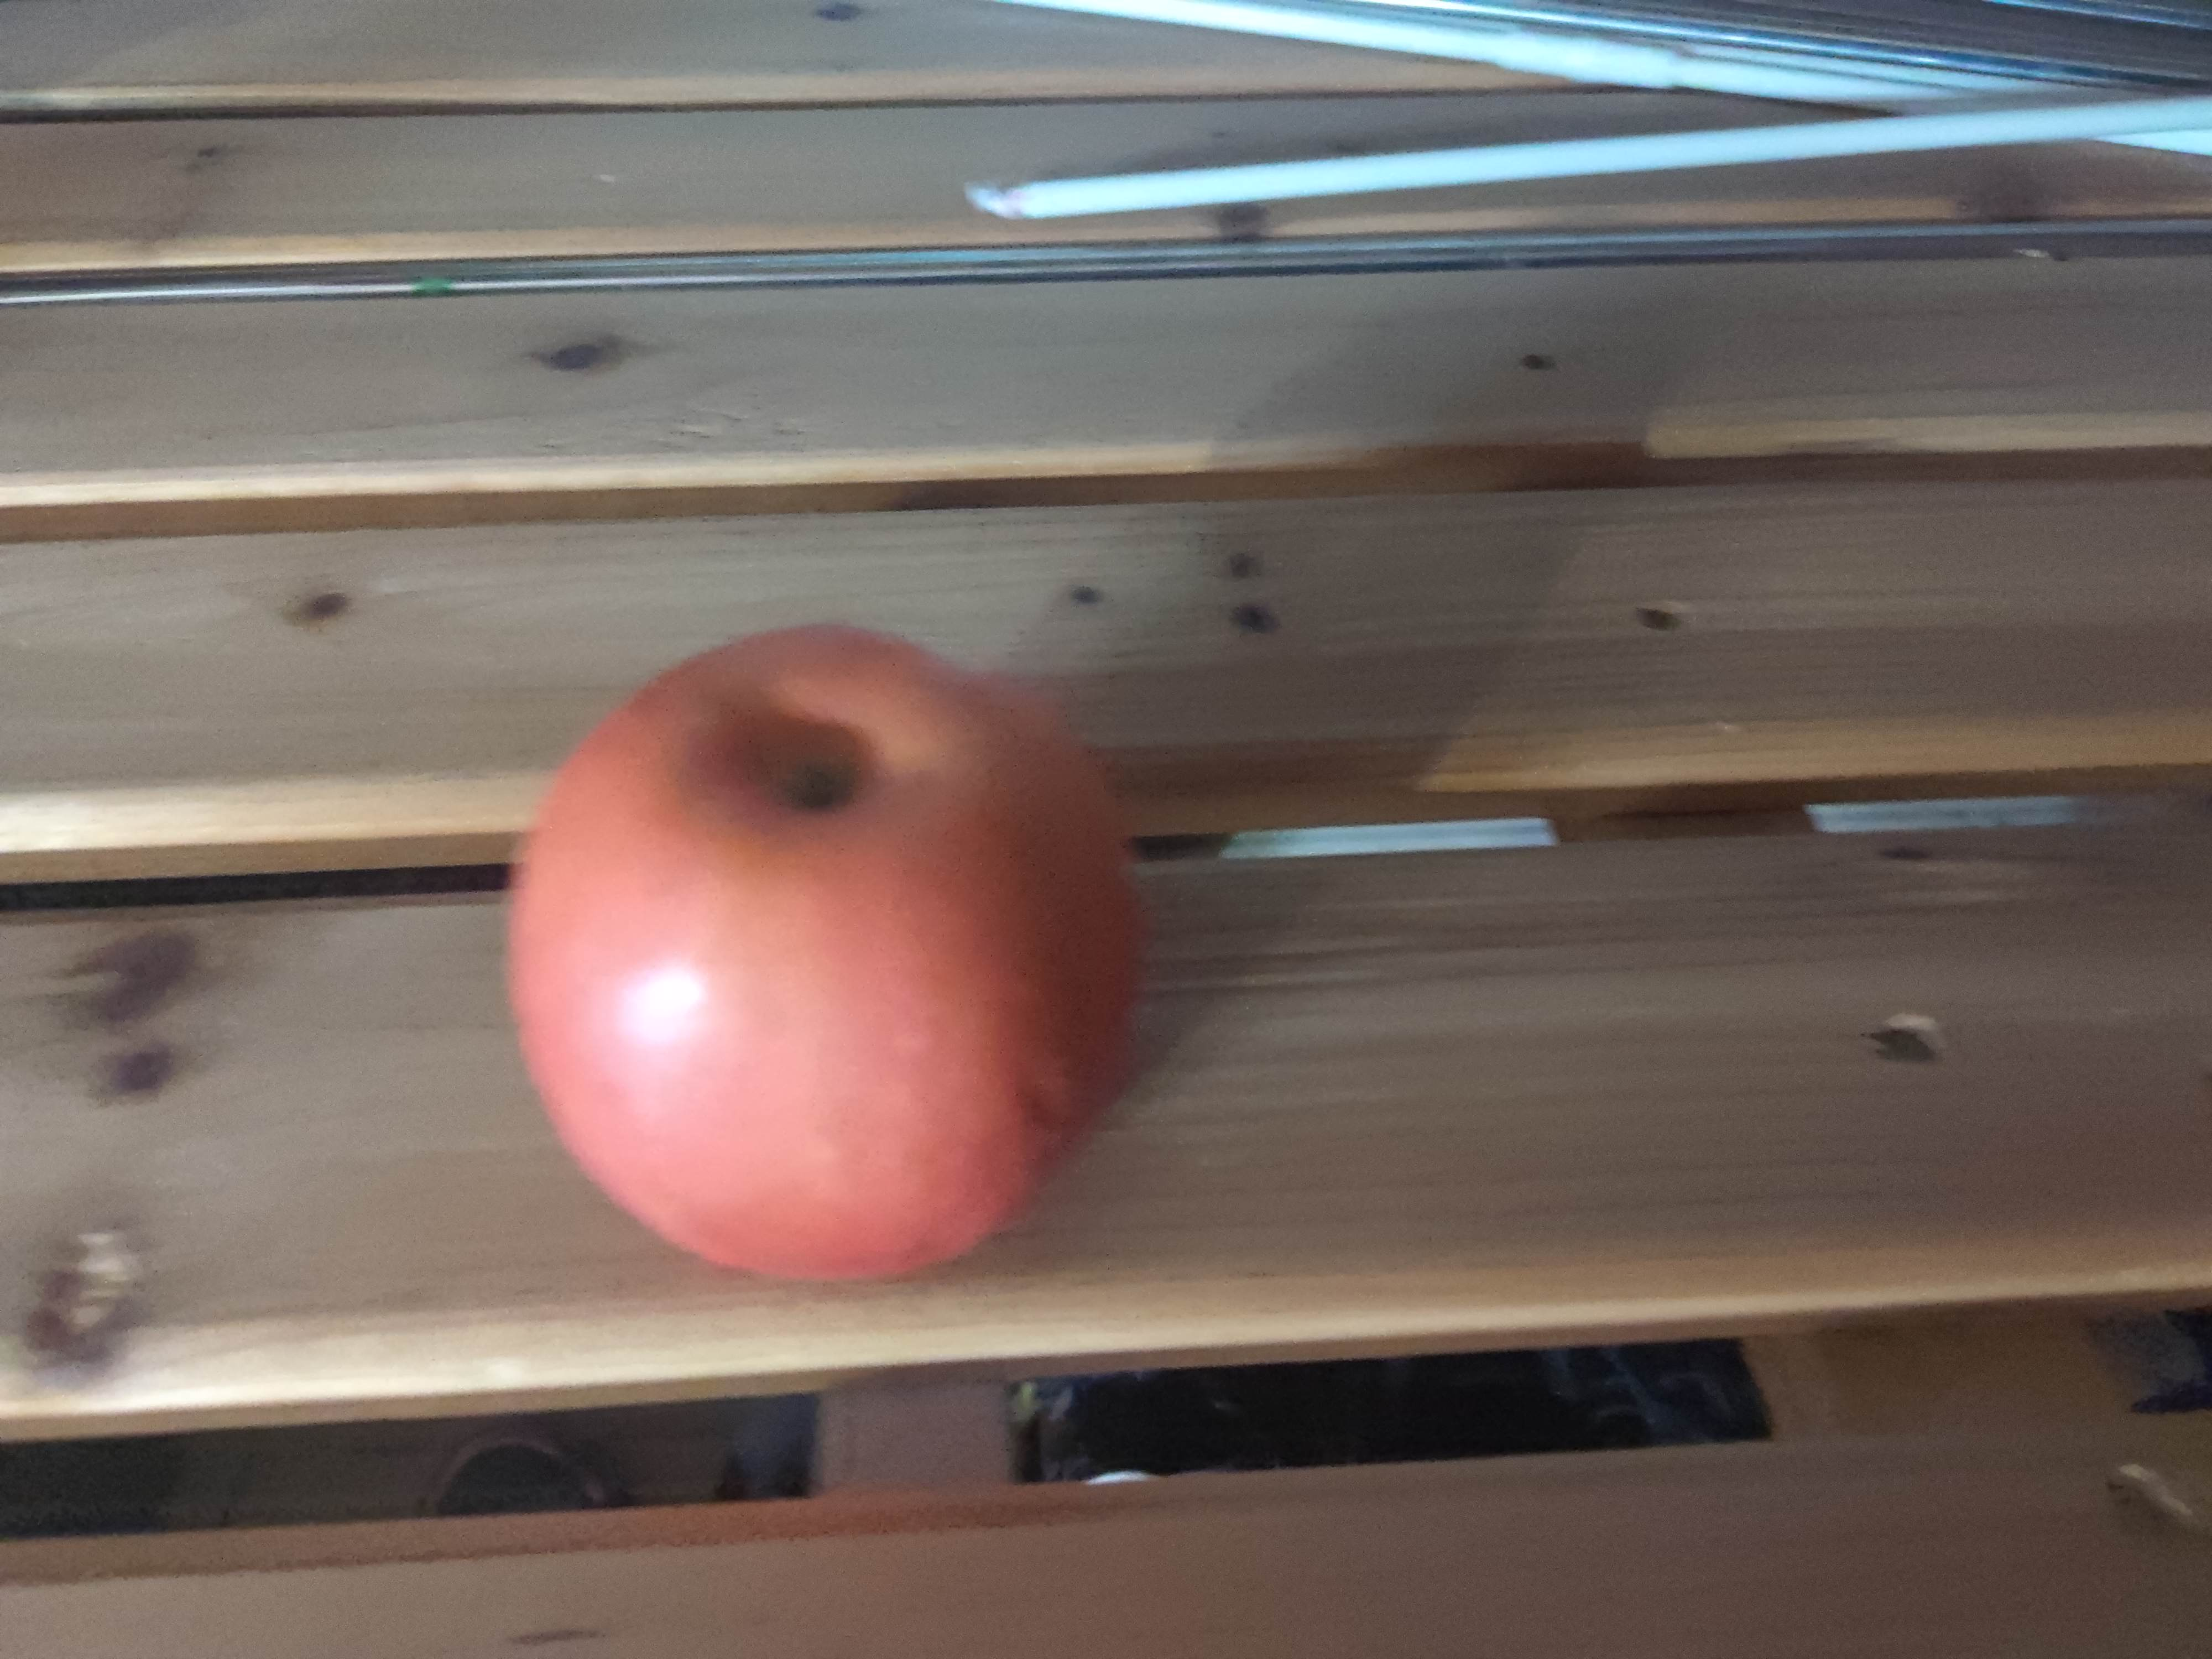apple: (500, 629, 1148, 1281)
